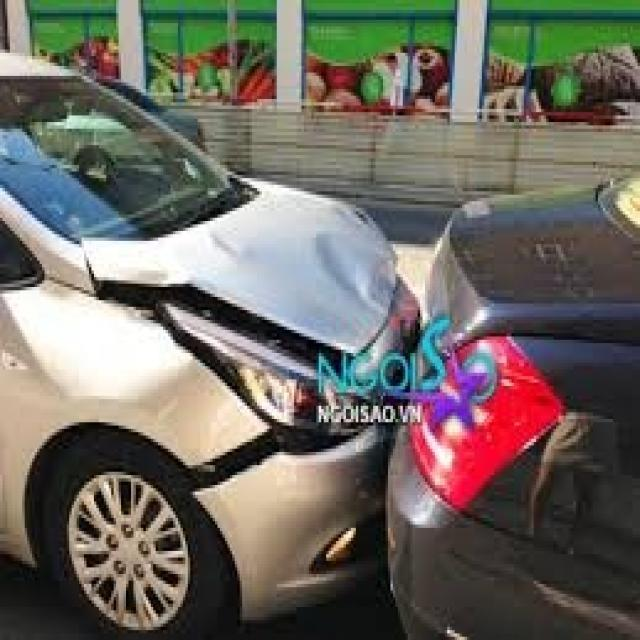accident: (12, 56, 628, 640)
